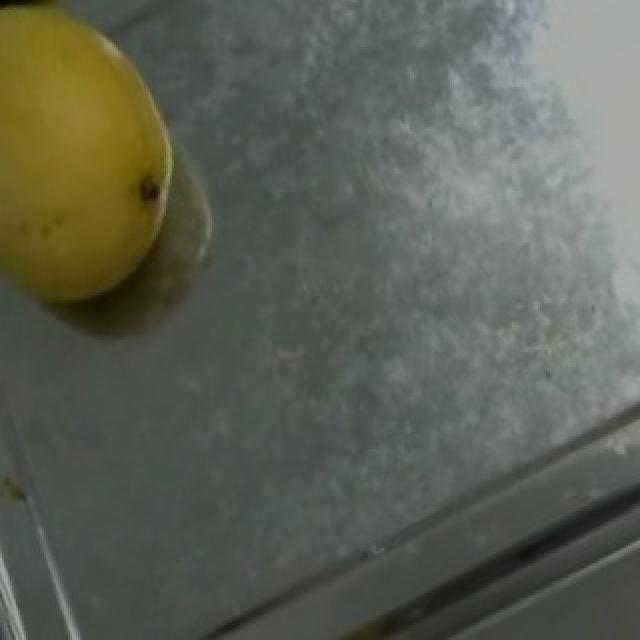fruit: (0, 0, 208, 340)
